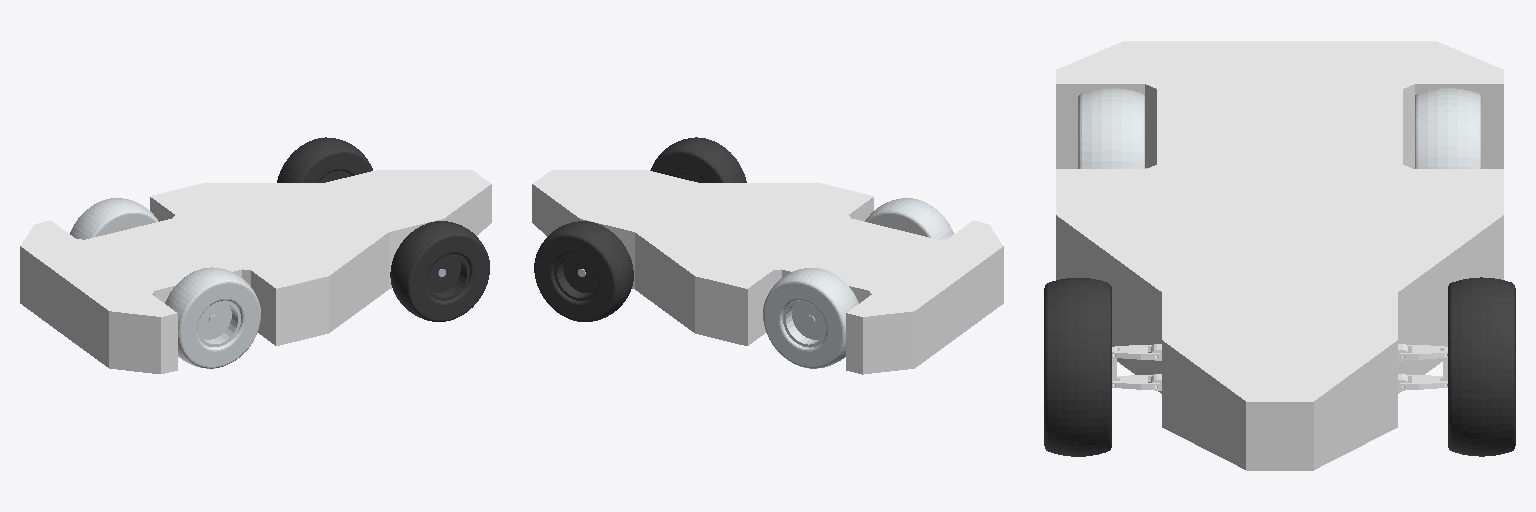
The robot description file, URDF, robot "robot_car_rev08":
<?xml version="1.0" encoding="utf-8"?>
<!-- This URDF was automatically created by SolidWorks to URDF Exporter! Originally created by [author] ([email redacted]) 
     Commit Version: 1.6.0-4-g7f85cfe  Build Version: 1.6.7995.38578
     For more information, please see http://wiki.ros.org/sw_urdf_exporter -->
<robot
  name="robot_car_rev08">
  <link
    name="dummy_link">
  </link>
  <link
    name="chassis">
    <inertial>
      <origin
        xyz="-0.064890969251821 4.3352058692555E-05 0.102992440037782"
        rpy="0 0 0" />
      <mass
        value="42.551942744192" />
      <inertia
        ixx="0.607232687971123"
        ixy="2.60230726055755E-11"
        ixz="-0.0249348609919036"
        iyy="2.62951463079903"
        iyz="3.65729745160199E-12"
        izz="3.125839901728" />
    </inertial>
    <visual>
      <origin
        xyz="0 0 0"
        rpy="0 0 0" />
      <geometry>
        <mesh
          filename="package://robot_car_rev08/meshes/chassis.STL" />
      </geometry>
      <material
        name="">
        <color
          rgba="1 1 1 0.35" />
      </material>
    </visual>
    <collision>
      <origin
        xyz="0 0 0"
        rpy="0 0 0" />
      <geometry>
        <mesh
          filename="package://robot_car_rev08/meshes/chassis.STL" />
      </geometry>
    </collision>
  </link>
  <link
    name="front_left_steering">
    <inertial>
      <origin
        xyz="-0.00843161115072408 -0.00203498762992196 0.00125939614783174"
        rpy="0 0 0" />
      <mass
        value="0.0463597443861658" />
      <inertia
        ixx="5.56376884726499E-06"
        ixy="9.62339372922729E-07"
        ixz="-4.48945411160145E-07"
        iyy="7.38231131477921E-06"
        iyz="9.02997774269345E-07"
        izz="8.3434006246681E-06" />
    </inertial>
    <visual>
      <origin
        xyz="0 0 0"
        rpy="0 0 0" />
      <geometry>
        <mesh
          filename="package://robot_car_rev08/meshes/front_left_steering.STL" />
      </geometry>
      <material
        name="">
        <color
          rgba="0.898039215686275 0.917647058823529 0.929411764705882 1" />
      </material>
    </visual>
    <collision>
      <origin
        xyz="0 0 0"
        rpy="0 0 0" />
      <geometry>
        <mesh
          filename="package://robot_car_rev08/meshes/front_left_steering.STL" />
      </geometry>
    </collision>
  </link>
  <!--Joint Definitions-->
  <!--Joint dummy_link - chassis-->
  <joint
    name="dummy_joint"
    type="fixed">
    <origin
      xyz="0 0 0"
      rpy="0 0 0"/>
    <parent
      link="dummy_link"/>
    <child
      link="chassis"/>
    </joint>
  <joint
    name="front_left_steering_joint"
    type="revolute">
    <origin
      xyz="0.254 0.203182499373019 0.101600000000001"
      rpy="0.13962634015954 0 -1.5707963267949" />
    <parent
      link="chassis" />
    <child
      link="front_left_steering" />
    <axis
      xyz="0 0 1" />
    <limit
      lower="-1.0472"
      upper="1.0472"
      effort="2"
      velocity="0.5" />
  </joint>
  <link
    name="front_left_wheel">
    <inertial>
      <origin
        xyz="0.000710628409286707 -9.98723098043965E-05 1.01391735665979E-05"
        rpy="0 0 0" />
      <mass
        value="1.92553427383926" />
      <inertia
        ixx="0.00638023684004655"
        ixy="-1.20952159865865E-18"
        ixz="-8.11582122336904E-19"
        iyy="0.00638023684004655"
        iyz="3.39909203718336E-19"
        izz="0.0111123897410484" />
    </inertial>
    <visual>
      <origin
        xyz="0 0 0"
        rpy="0 0 0" />
      <geometry>
        <mesh
          filename="package://robot_car_rev08/meshes/front_left_wheel.STL" />
      </geometry>
      <material
        name="">
        <color
          rgba="0.298039215686275 0.298039215686275 0.298039215686275 1" />
      </material>
    </visual>
    <collision>
      <origin
        xyz="0 0 0"
        rpy="0 0 0" />
      <geometry>
        <mesh
          filename="package://robot_car_rev08/meshes/front_left_wheel.STL" />
      </geometry>
    </collision>
  </link>
  <joint
    name="front_left_wheel_joint"
    type="continuous">
    <origin
      xyz="-0.0253999999999999 0 0"
      rpy="1.5707963267949 -0.13962634015954 -1.5707963267949" />
    <parent
      link="front_left_steering" />
    <child
      link="front_left_wheel" />
    <axis
      xyz="0 0 1" />
  </joint>
  <link
    name="front_right_steering">
    <inertial>
      <origin
        xyz="0.00843160845688481 -0.00203498278844419 0.00125938690317389"
        rpy="0 0 0" />
      <mass
        value="0.0171702882340771" />
      <inertia
        ixx="2.06065663437465E-06"
        ixy="-3.56421686036717E-07"
        ixz="1.66275327091769E-07"
        iyy="2.73419165997558E-06"
        iyz="3.34444901736521E-07"
        izz="3.09014802274599E-06" />
    </inertial>
    <visual>
      <origin
        xyz="0 0 0"
        rpy="0 0 0" />
      <geometry>
        <mesh
          filename="package://robot_car_rev08/meshes/front_right_steering.STL" />
      </geometry>
      <material
        name="">
        <color
          rgba="0.792156862745098 0.819607843137255 0.933333333333333 1" />
      </material>
    </visual>
    <collision>
      <origin
        xyz="0 0 0"
        rpy="0 0 0" />
      <geometry>
        <mesh
          filename="package://robot_car_rev08/meshes/front_right_steering.STL" />
      </geometry>
    </collision>
  </link>
  <joint
    name="front_right_steering_joint"
    type="revolute">
    <origin
      xyz="0.254 -0.203182499373019 0.101600000000001"
      rpy="0.13962634015954 0 -1.5707963267949" />
    <parent
      link="chassis" />
    <child
      link="front_right_steering" />
    <axis
      xyz="0 0 1" />
    <limit
      lower="-1.0472"
      upper="1.0472"
      effort="2"
      velocity="0.5" />
  </joint>
  <link
    name="front_right_wheel">
    <inertial>
      <origin
        xyz="0 4.00229910539665E-16 0"
        rpy="0 0 0" />
      <mass
        value="1.92553427383926" />
      <inertia
        ixx="0.00638023684004654"
        ixy="2.68698531563788E-19"
        ixz="-8.44436911313644E-19"
        iyy="0.00638023684004654"
        iyz="4.28846497279084E-20"
        izz="0.0111123897410484" />
    </inertial>
    <visual>
      <origin
        xyz="0 0 0"
        rpy="0 0 0" />
      <geometry>
        <mesh
          filename="package://robot_car_rev08/meshes/front_right_wheel.STL" />
      </geometry>
      <material
        name="">
        <color
          rgba="0.298039215686275 0.298039215686275 0.298039215686275 1" />
      </material>
    </visual>
    <collision>
      <origin
        xyz="0 0 0"
        rpy="0 0 0" />
      <geometry>
        <mesh
          filename="package://robot_car_rev08/meshes/front_right_wheel.STL" />
      </geometry>
    </collision>
  </link>
  <joint
    name="front_right_wheel_joint"
    type="continuous">
    <origin
      xyz="0.0253999999999999 0 0"
      rpy="1.5707963267949 -0.13962634015954 -1.5707963267949" />
    <parent
      link="front_right_steering" />
    <child
      link="front_right_wheel" />
    <axis
      xyz="0 0 -1" />
  </joint>
  <link
    name="rear_wheel">
    <inertial>
      <origin
        xyz="-5.55111512312578E-17 -3.66518240186853E-16 -0.1905"
        rpy="0 0 0" />
      <mass
        value="4.14898028838973" />
      <inertia
        ixx="0.0170343666536348"
        ixy="-5.09490689039691E-20"
        ixz="3.62104180661535E-19"
        iyy="0.0170343666536348"
        iyz="-9.84772981696711E-19"
        izz="0.0222389259821933" />
    </inertial>
    <visual>
      <origin
        xyz="0 0 0"
        rpy="0 0 0" />
      <geometry>
        <mesh
          filename="package://robot_car_rev08/meshes/rear_wheel.STL" />
      </geometry>
      <material
        name="">
        <color
          rgba="0.898039215686275 0.917647058823529 0.929411764705882 1" />
      </material>
    </visual>
    <collision>
      <origin
        xyz="0 0 0"
        rpy="0 0 0" />
      <geometry>
        <mesh
          filename="package://robot_car_rev08/meshes/rear_wheel.STL" />
      </geometry>
    </collision>
  </link>
  <joint
    name="rear_wheel_joint"
    type="continuous">
    <origin
      xyz="-0.253999999999999 0.1905 0.101600000000001"
      rpy="1.5707963267949 0 3.14159265358979" />
    <parent
      link="chassis" />
    <child
      link="rear_wheel" />
    <axis
      xyz="0 0 1" />
  </joint>
    <!--Transmisison Definitions-->
  <transmission name="rear_transmission">
    <type>transmission_interface/SimpleTransmission</type>
    <joint name="rear_wheel_joint">
      <hardwareInterface>hardware_interface/VelocityJointInterface</hardwareInterface>
    </joint>
    <actuator name="rear_motor">
      <mechanicalReduction>1</mechanicalReduction>
    </actuator>
  </transmission>
  <transmission name="front_left_steering_transmission">
    <type>transmission_interface/SimpleTransmission</type>
    <joint name="front_left_steering_joint">
      <hardwareInterface>hardware_interface/EffortJointInterface</hardwareInterface>
    </joint>
    <actuator name="front_left_motor">
      <mechanicalReduction>1</mechanicalReduction>
    </actuator>
  </transmission>
  <transmission name="front_right_steering_transmission">
    <type>transmission_interface/SimpleTransmission</type>
    <joint name="front_right_steering_joint">
      <hardwareInterface>hardware_interface/EffortJointInterface</hardwareInterface>
    </joint>
    <actuator name="front_right_motor">
      <mechanicalReduction>1</mechanicalReduction>
    </actuator>
  </transmission>
</robot>

--- Facts derived from the render (not from the file) ---
Views: 3 orthographic renders of the robot side by side, from view 1: azimuth 30°, elevation 25°; view 2: azimuth 150°, elevation 25°; view 3: azimuth 270°, elevation 25°.
Model robot_car_rev08 with 7 links and 6 joints (2 revolute, 3 continuous, 1 fixed), rooted at dummy_link, posed every joint at zero.
Visible links, largest first — view 1: chassis, rear_wheel, front_right_wheel, front_left_wheel; view 2: chassis, rear_wheel, front_left_wheel, front_right_wheel; view 3: chassis, front_right_wheel, front_left_wheel, rear_wheel.
Boxes of the visible links, x1,y1,x2,y2 form: chassis: [20, 170, 491, 373]; rear_wheel: [70, 198, 260, 368]; front_right_wheel: [390, 221, 489, 321]; front_left_wheel: [277, 137, 372, 182]; chassis: [532, 170, 1003, 374]; rear_wheel: [763, 198, 953, 368]; front_left_wheel: [534, 221, 633, 321]; front_right_wheel: [650, 137, 746, 182]; chassis: [1056, 41, 1503, 470]; front_right_wheel: [1044, 278, 1111, 456]; front_left_wheel: [1448, 277, 1515, 456]; rear_wheel: [1078, 88, 1481, 168].
Bounding box of the posed robot: 0.9652 × 0.5334 × 0.2033 m (x, y, z).
6 mesh visuals loaded from 6 distinct referenced files (6 binary STL).